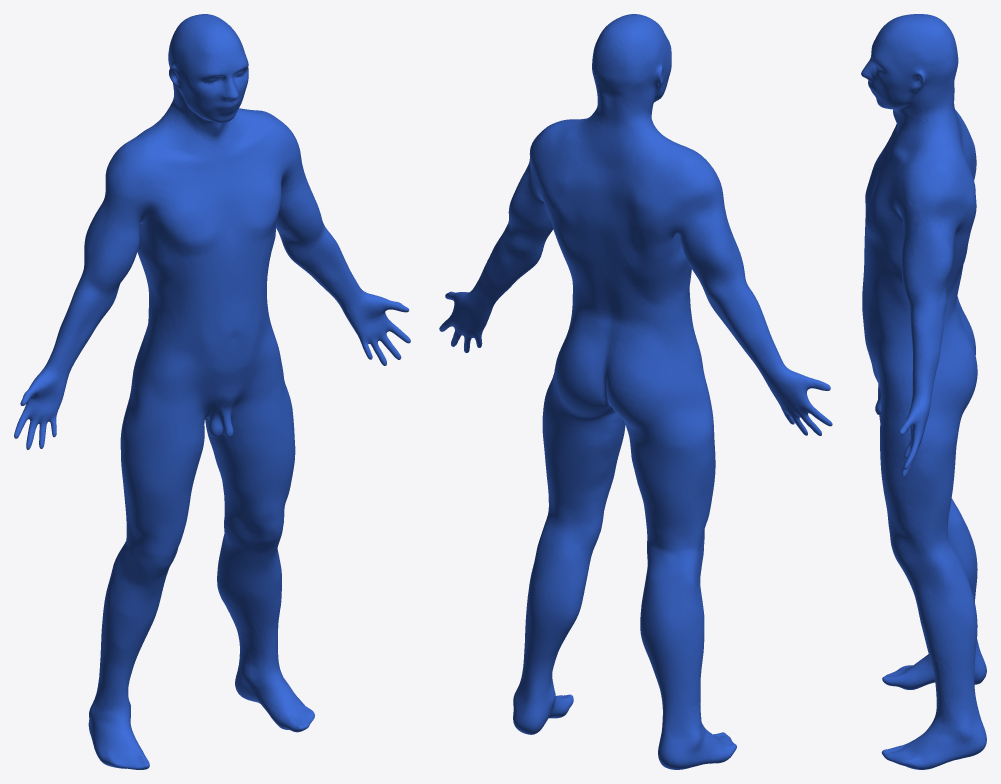
File: skin.glb
3 views of the same model, side by side, from view 1: azimuth 30°, elevation 25°; view 2: azimuth 150°, elevation 25°; view 3: azimuth 270°, elevation 25° (orthographic). The views are drawn at different scales.
Parts seen in each view (by area): view 1: VH_M_skin; view 2: VH_M_skin; view 3: VH_M_skin.
Boxes of the visible parts, bbox=[...] form: VH_M_skin: bbox=[14, 14, 410, 769]; VH_M_skin: bbox=[439, 14, 832, 769]; VH_M_skin: bbox=[861, 14, 986, 769].
Size of the model in its own units: 1.05 by 1.83 by 0.2949.
